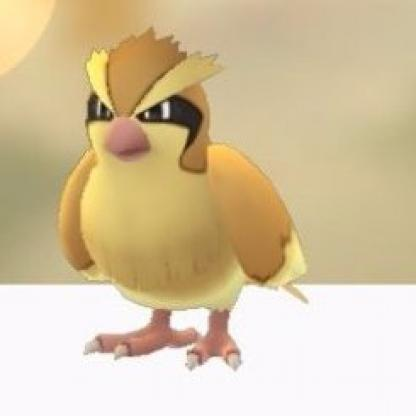Pidgey: (46, 23, 301, 390)
